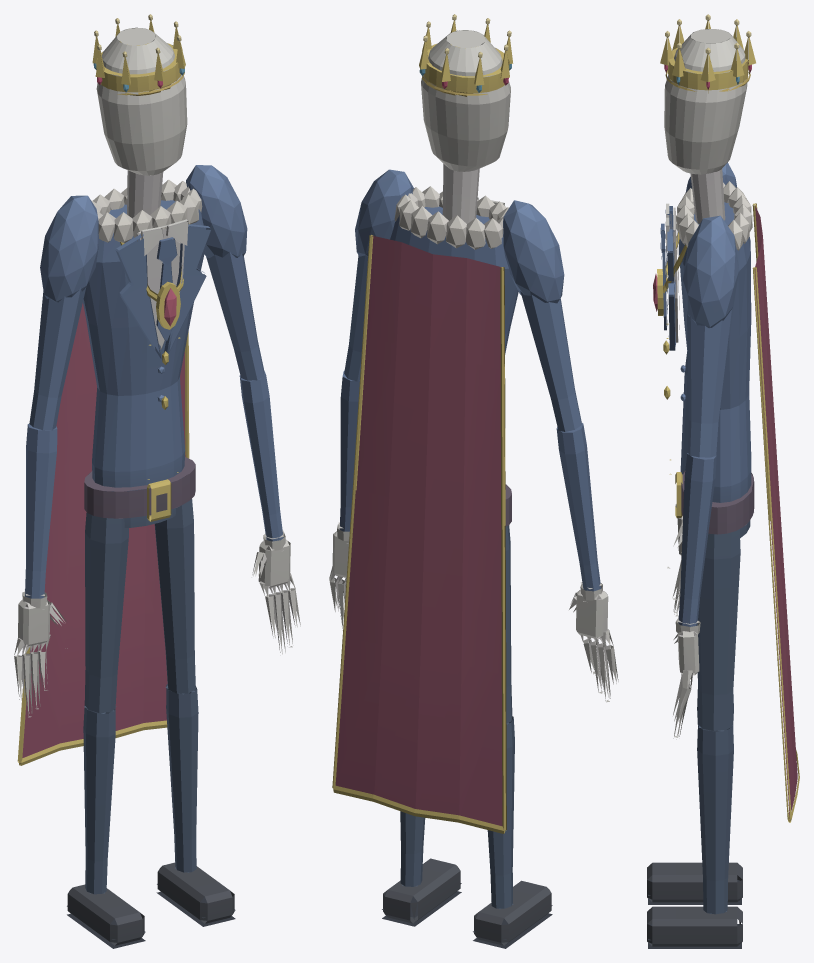
File: SlendermanKing.glb
The picture shows the model from 3 angles, left to right: view 1: azimuth 30°, elevation 25°; view 2: azimuth 150°, elevation 25°; view 3: azimuth 270°, elevation 25°; orthographic projection.
Parts seen in each view (by area): view 1: Body, ArmR, LegR, LegL, ArmL, Head; view 2: Body, ArmR, Head, ArmL, LegR, LegL; view 3: Body, LegL, ArmL, Head, LegR, ArmR.
Part boxes in pixels (x1=…): Body: x1=17, y1=170, x2=211, y2=765; ArmR: x1=14, y1=195, x2=99, y2=717; LegR: x1=67, y1=512, x2=145, y2=948; LegL: x1=154, y1=499, x2=235, y2=926; ArmL: x1=186, y1=165, x2=300, y2=654; Head: x1=92, y1=14, x2=187, y2=175; Body: x1=332, y1=164, x2=518, y2=833; ArmR: x1=503, y1=200, x2=618, y2=702; Head: x1=419, y1=14, x2=513, y2=171; ArmL: x1=329, y1=169, x2=413, y2=630; LegR: x1=473, y1=525, x2=552, y2=948; LegL: x1=382, y1=811, x2=461, y2=926; Body: x1=653, y1=168, x2=799, y2=822; LegL: x1=647, y1=529, x2=742, y2=948; ArmL: x1=673, y1=215, x2=739, y2=739; Head: x1=660, y1=14, x2=755, y2=174; LegR: x1=647, y1=686, x2=742, y2=904; ArmR: x1=667, y1=162, x2=736, y2=616.
Bounding box in the file's own units: 2.68 × 8.06 × 1.26.
